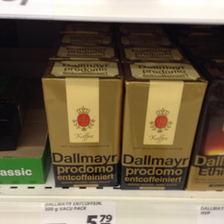coffee: (121, 62, 207, 191), (41, 59, 125, 188)
